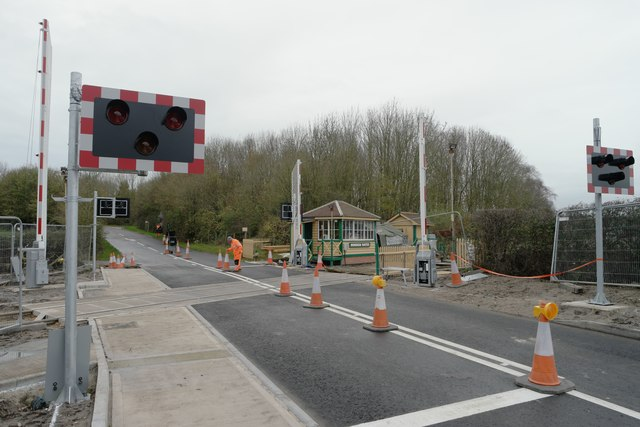cone: (511, 297, 588, 399), (358, 274, 404, 337), (438, 252, 474, 290), (303, 264, 329, 311), (269, 258, 296, 299), (310, 249, 327, 275), (209, 248, 226, 272), (178, 238, 194, 262), (262, 246, 279, 267), (221, 246, 233, 274), (159, 237, 171, 259), (171, 236, 182, 260), (129, 249, 138, 268), (107, 253, 115, 269), (114, 254, 121, 269), (112, 252, 117, 269), (120, 255, 126, 269)
